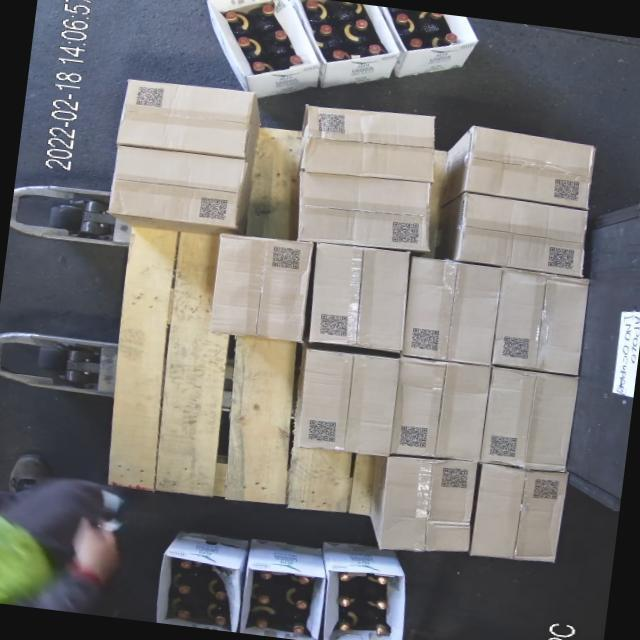box: (288, 166, 436, 256), (298, 100, 440, 188), (304, 241, 411, 352), (116, 76, 252, 159), (294, 348, 398, 456), (464, 123, 594, 209), (108, 144, 241, 227), (208, 232, 310, 340), (399, 256, 500, 364), (457, 192, 588, 275), (387, 356, 488, 462), (376, 452, 476, 558), (491, 267, 588, 375), (478, 366, 576, 472), (467, 463, 566, 565)
